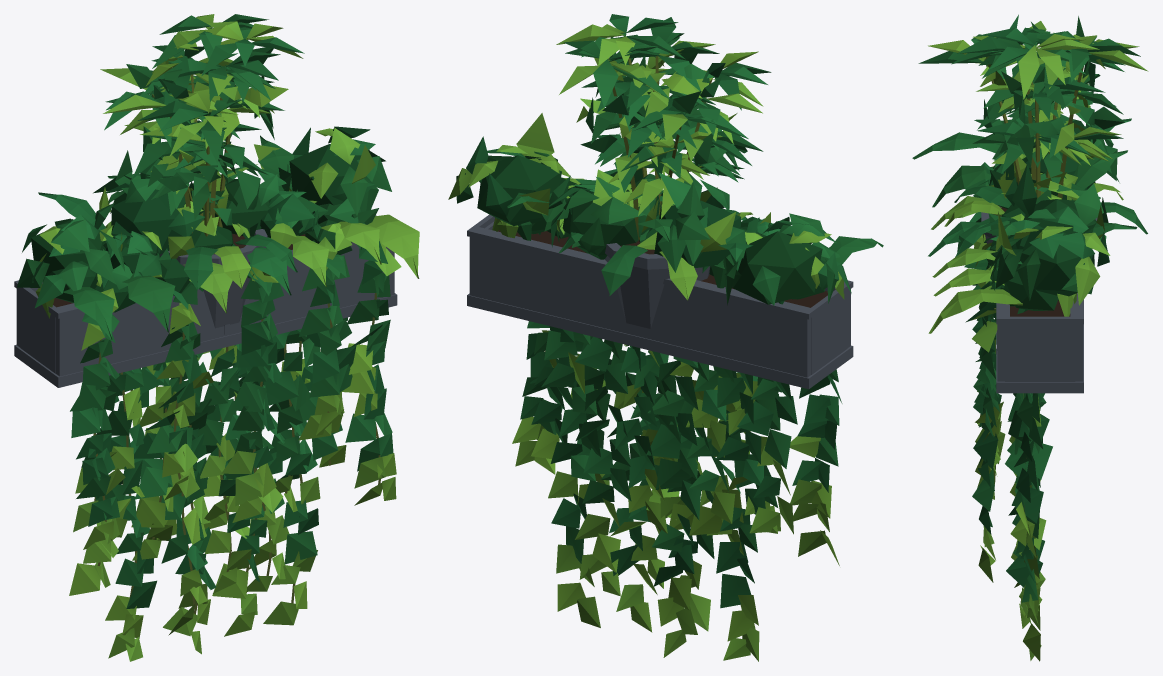
Rendered from ivy210.glb.
The picture shows the model from 3 angles, left to right: view 1: azimuth 30°, elevation 25°; view 2: azimuth 150°, elevation 25°; view 3: azimuth 270°, elevation 25°; orthographic projection.
Parts seen in each view (by area): view 1: i210-trough-i210-leaf, i210-drape-i210-leaf, i210-trough-i210-leaf2, i210-drape-i210-leaf2, i210-pot-i210-leaf, i210-trough-i210-planter, i210-pot-i210-leaf2, i210-pot-i210-planter, i210-drape-i210-stem, i210-pot-i210-stem; view 2: i210-drape-i210-leaf, i210-trough-i210-leaf, i210-trough-i210-planter, i210-drape-i210-leaf2, i210-pot-i210-leaf, i210-trough-i210-leaf2, i210-pot-i210-leaf2, i210-pot-i210-planter, i210-trough-i210-soil, i210-pot-i210-stem; view 3: i210-trough-i210-leaf, i210-pot-i210-leaf, i210-trough-i210-leaf2, i210-trough-i210-planter, i210-pot-i210-leaf2, i210-drape-i210-leaf, i210-drape-i210-leaf2, i210-pot-i210-stem, i210-trough-i210-soil.
Part boxes in pixels (box(x1,y1,x2,y2)): i210-trough-i210-leaf: box(17, 126, 393, 526); i210-drape-i210-leaf: box(79, 317, 347, 608); i210-trough-i210-leaf2: box(36, 128, 419, 595); i210-drape-i210-leaf2: box(73, 345, 346, 661); i210-pot-i210-leaf: box(104, 14, 304, 289); i210-trough-i210-planter: box(14, 215, 397, 387); i210-pot-i210-leaf2: box(100, 14, 303, 288); i210-pot-i210-planter: box(160, 229, 267, 328); i210-drape-i210-stem: box(94, 341, 331, 614); i210-pot-i210-stem: box(152, 70, 235, 236); i210-drape-i210-leaf: box(531, 326, 797, 608); i210-trough-i210-leaf: box(456, 136, 883, 492); i210-trough-i210-planter: box(467, 214, 853, 389); i210-drape-i210-leaf2: box(531, 344, 793, 661); i210-pot-i210-leaf: box(559, 14, 771, 295); i210-trough-i210-leaf2: box(448, 113, 844, 565); i210-pot-i210-leaf2: box(556, 24, 763, 300); i210-pot-i210-planter: box(604, 243, 710, 328); i210-trough-i210-soil: box(498, 230, 827, 307); i210-pot-i210-stem: box(612, 56, 712, 240); i210-trough-i210-leaf: box(912, 109, 1137, 534); i210-pot-i210-leaf: box(918, 14, 1147, 256); i210-trough-i210-leaf2: box(928, 111, 1110, 582); i210-trough-i210-planter: box(996, 293, 1083, 393); i210-pot-i210-leaf2: box(928, 21, 1148, 226); i210-drape-i210-leaf: box(1005, 393, 1052, 602); i210-drape-i210-leaf2: box(1009, 393, 1046, 661); i210-pot-i210-stem: box(984, 50, 1083, 199); i210-trough-i210-soil: box(1010, 300, 1070, 316).
Bounding box in the file's own units: 2.2 × 3.47 × 1.21.
